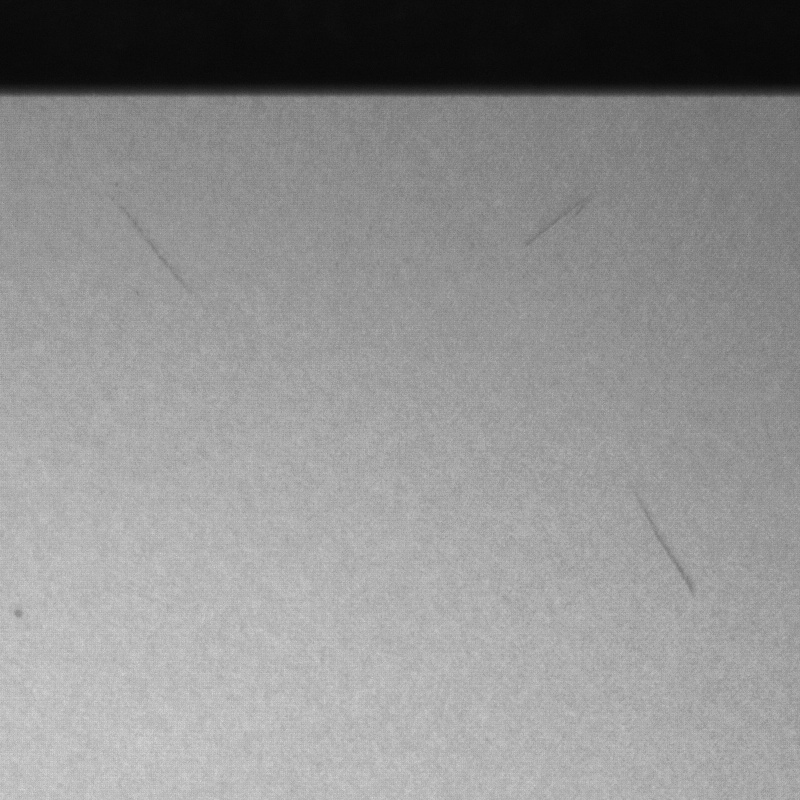defect: (119, 206, 192, 290), (638, 494, 697, 595), (522, 195, 591, 246), (14, 602, 27, 623)
